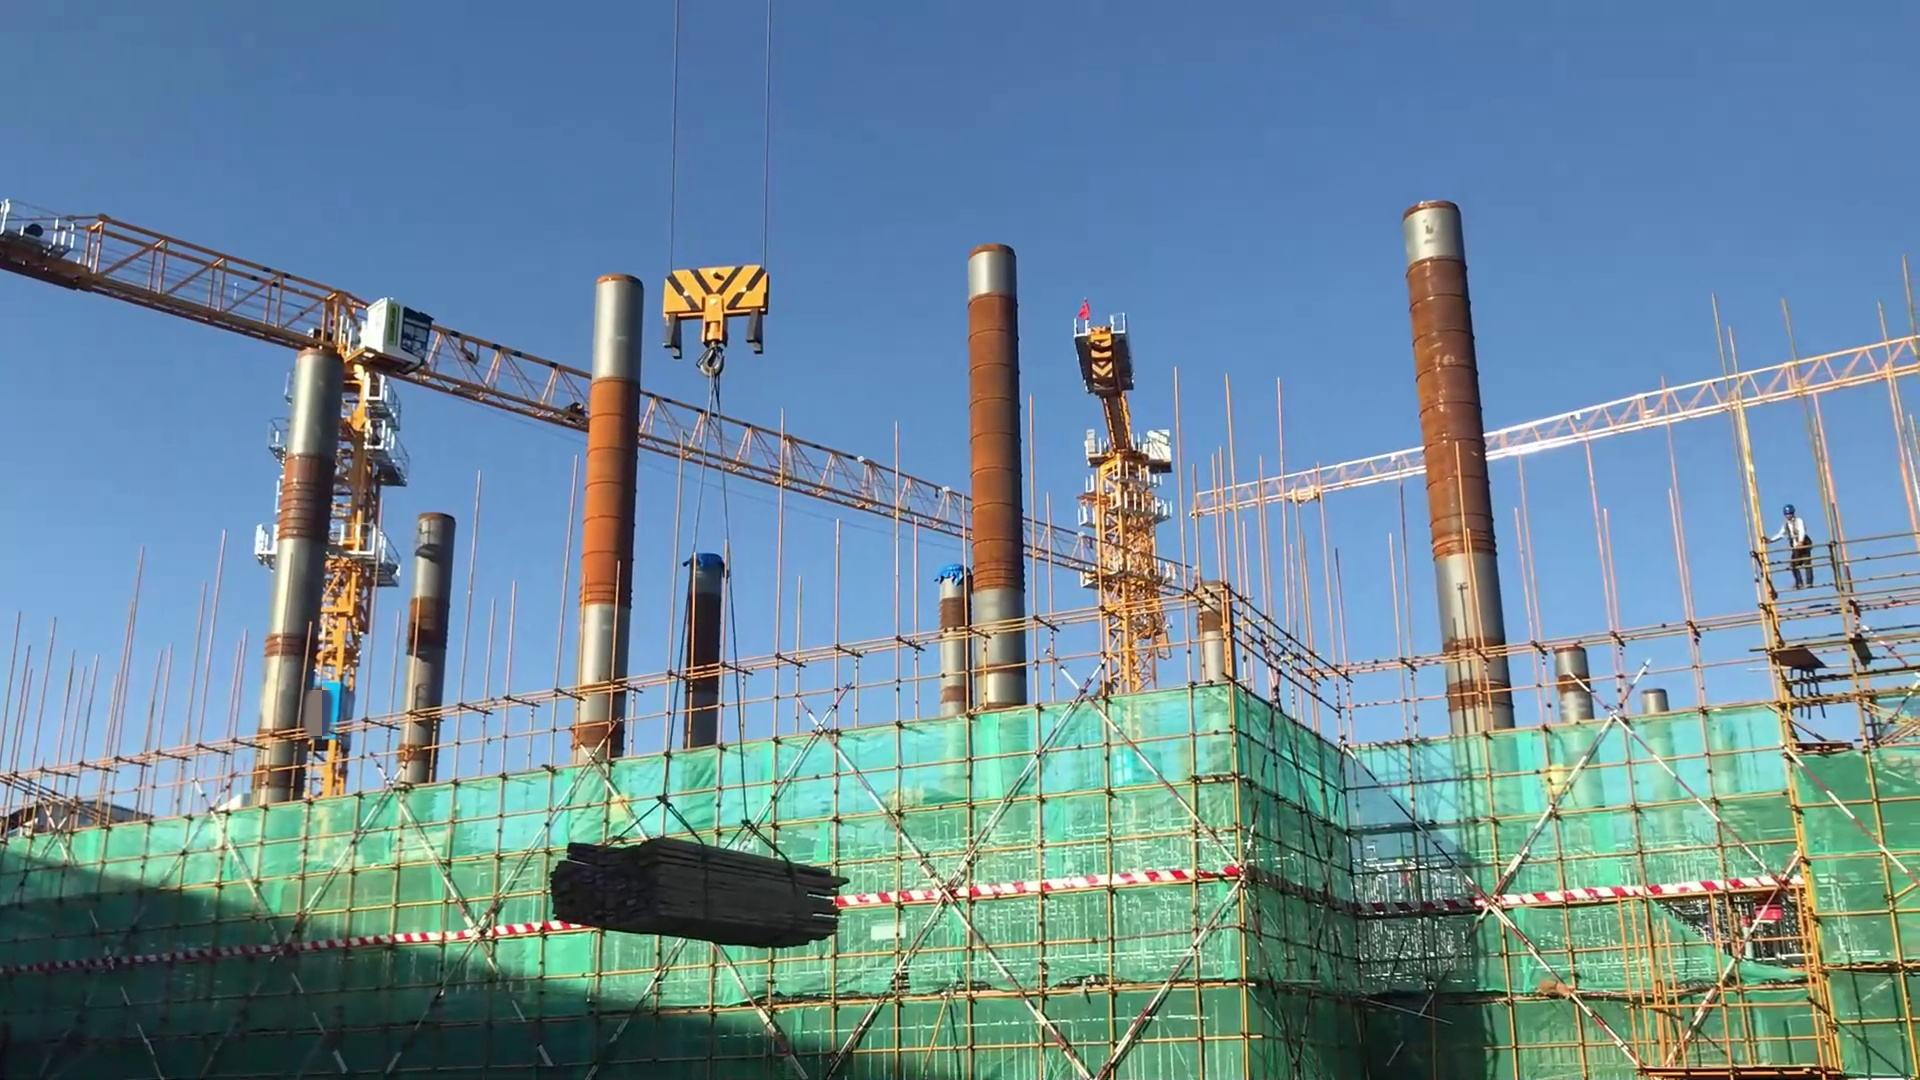helmet: (1771, 498, 1800, 524)
hook: (658, 255, 764, 370)
person: (1759, 500, 1820, 594)
vest: (1780, 521, 1805, 550)
wood: (549, 831, 844, 942)
